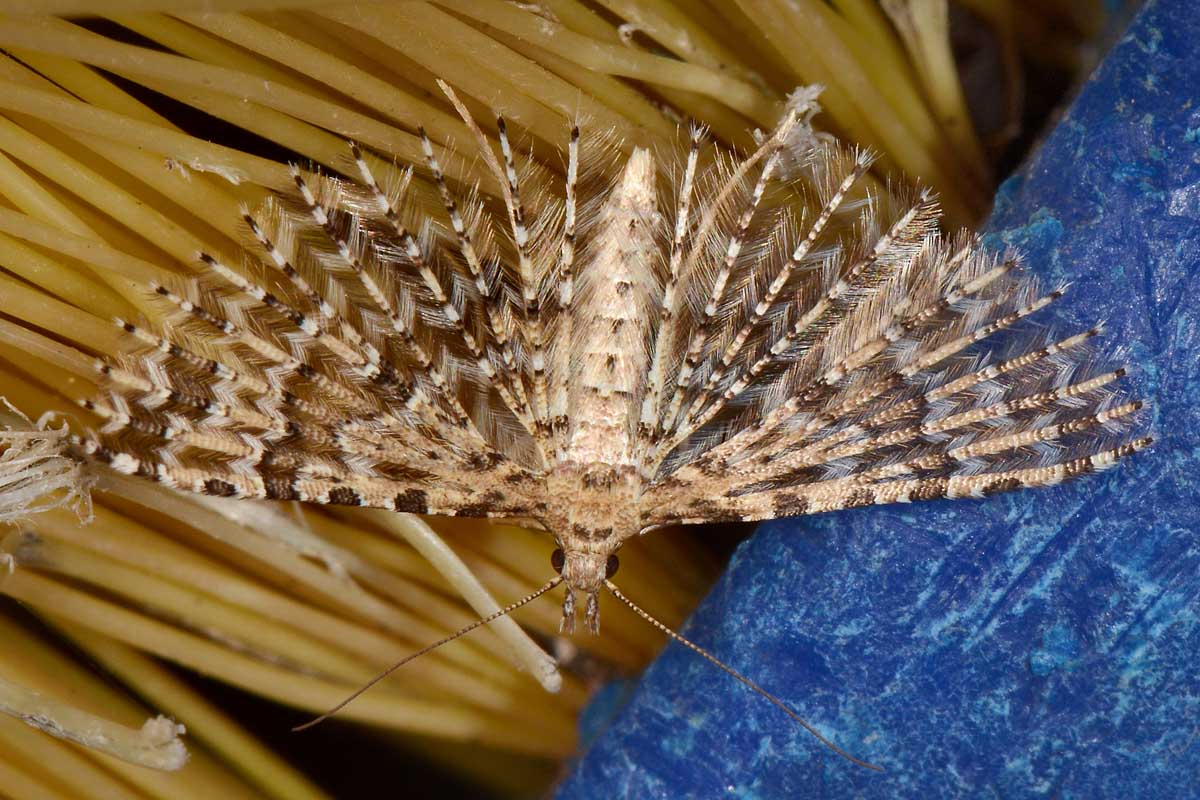Alucitidae: (73, 73, 1170, 759)
moth: (71, 71, 1168, 757)
